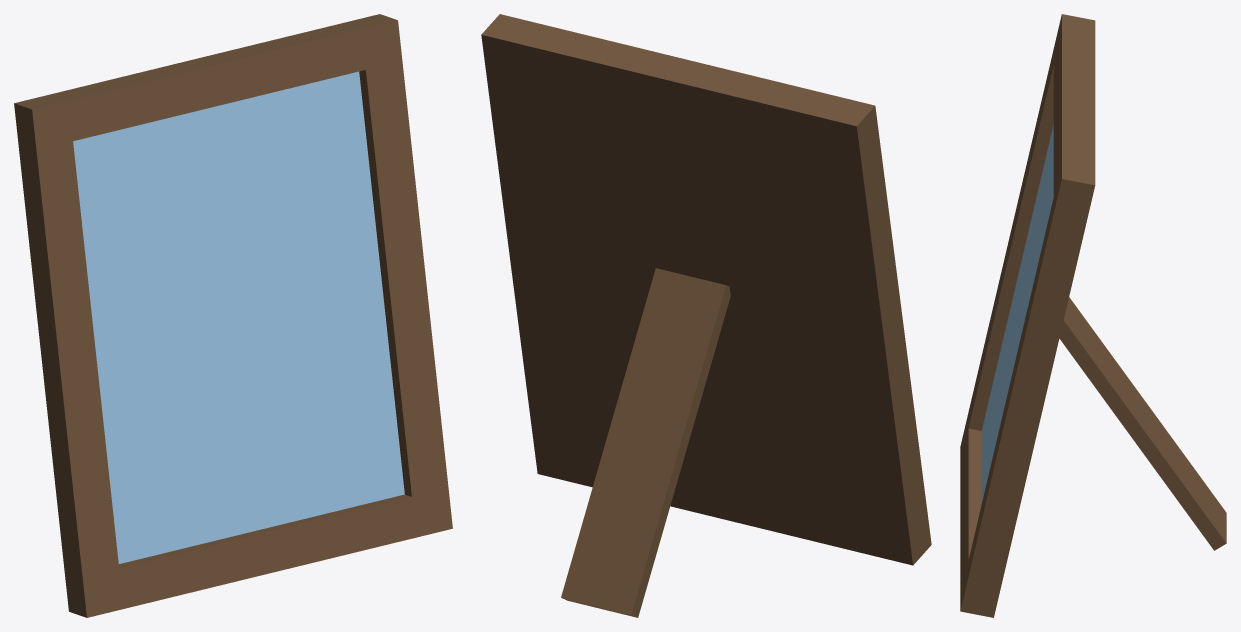
Rendered from Photo_Frame.fbx.
3 views of the same model, side by side, from view 1: azimuth 30°, elevation 25°; view 2: azimuth 150°, elevation 25°; view 3: azimuth 270°, elevation 25° (orthographic). The views are drawn at different scales.
Visible parts, largest first — view 1: Photo_Frame; view 2: Photo_Frame; view 3: Photo_Frame.
Boxes of the visible parts, box(x1,y1,x2,y2) form: Photo_Frame: box(14, 14, 452, 617); Photo_Frame: box(481, 14, 931, 617); Photo_Frame: box(960, 14, 1226, 617).
Bounding box in the file's own units: 0.16 × 0.1985 × 0.1091.
